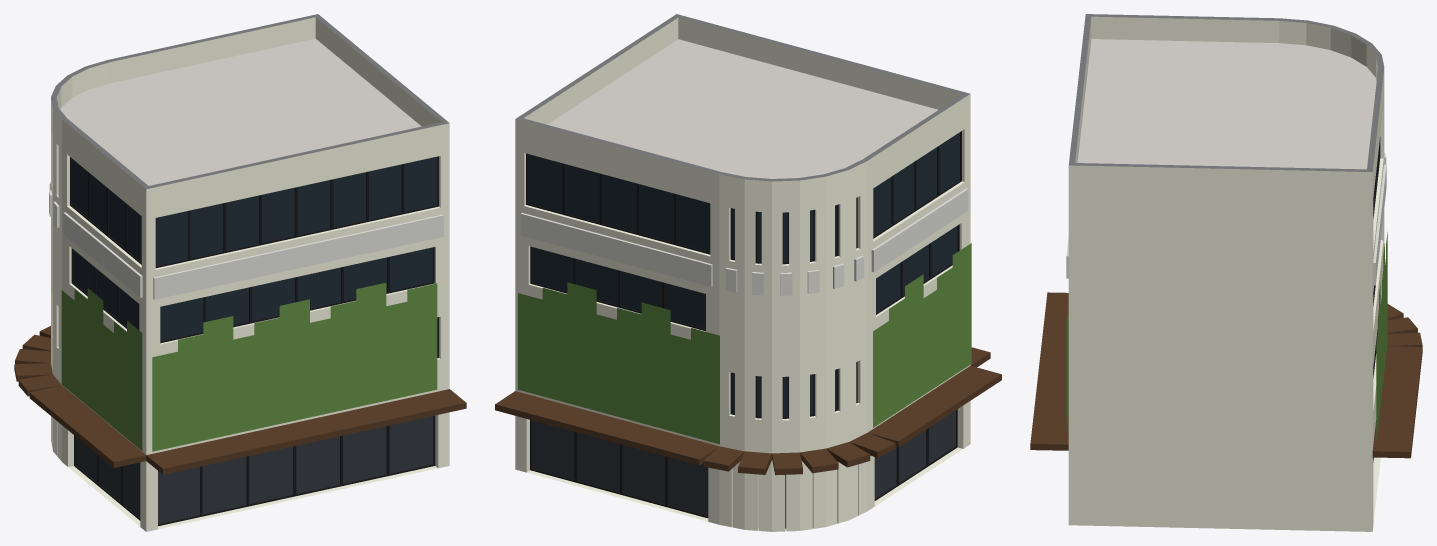
File: yakitori525.glb
3 renders of one model, left to right at view 1: azimuth 30°, elevation 25°; view 2: azimuth 150°, elevation 25°; view 3: azimuth 270°, elevation 25°, orthographic. The views are drawn at different scales.
Parts seen in each view (by area): view 1: yakitori525; view 2: yakitori525; view 3: yakitori525.
Part boxes in pixels (bbox=[...]): yakitori525: bbox=[14, 14, 466, 531]; yakitori525: bbox=[495, 14, 1001, 531]; yakitori525: bbox=[1030, 14, 1422, 531].
Bounding box in the file's own units: 15.12 × 14.5 × 14.32.
